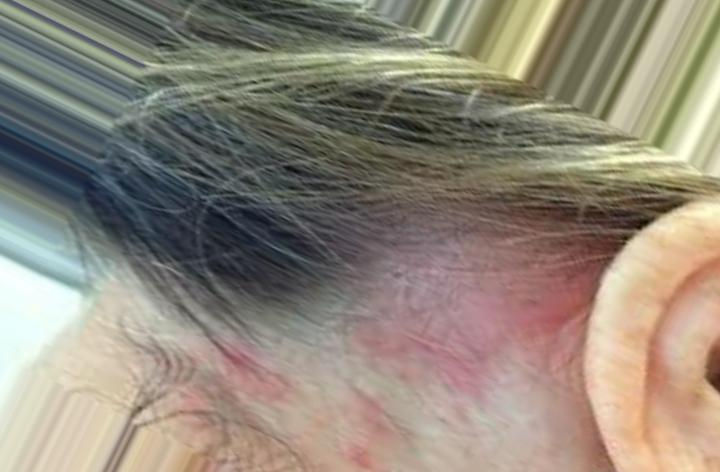Contact Dermatitis: (305, 206, 562, 436)
